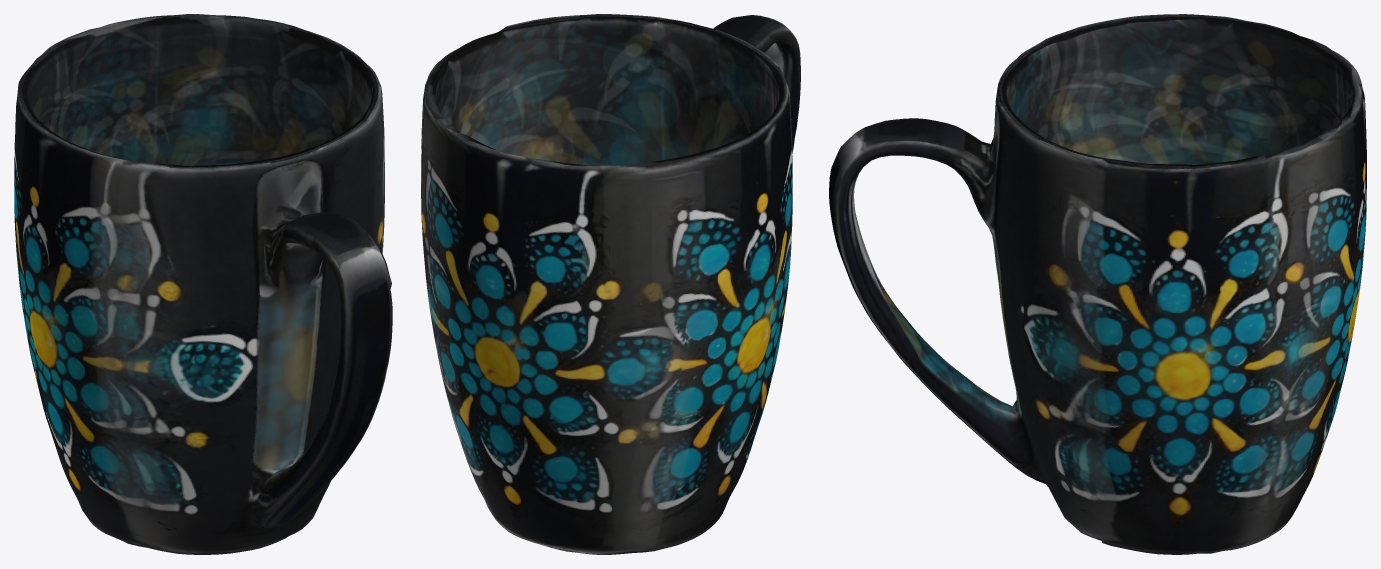
Rendered from Floral_Mandala_Mug_0414174054_texture.glb.
3 renders of one model, left to right at view 1: azimuth 30°, elevation 25°; view 2: azimuth 150°, elevation 25°; view 3: azimuth 270°, elevation 25°, orthographic.
Bounding box in the file's own units: 1.39 × 1.72 × 2.
Materials: 1 (1 with a texture image).
